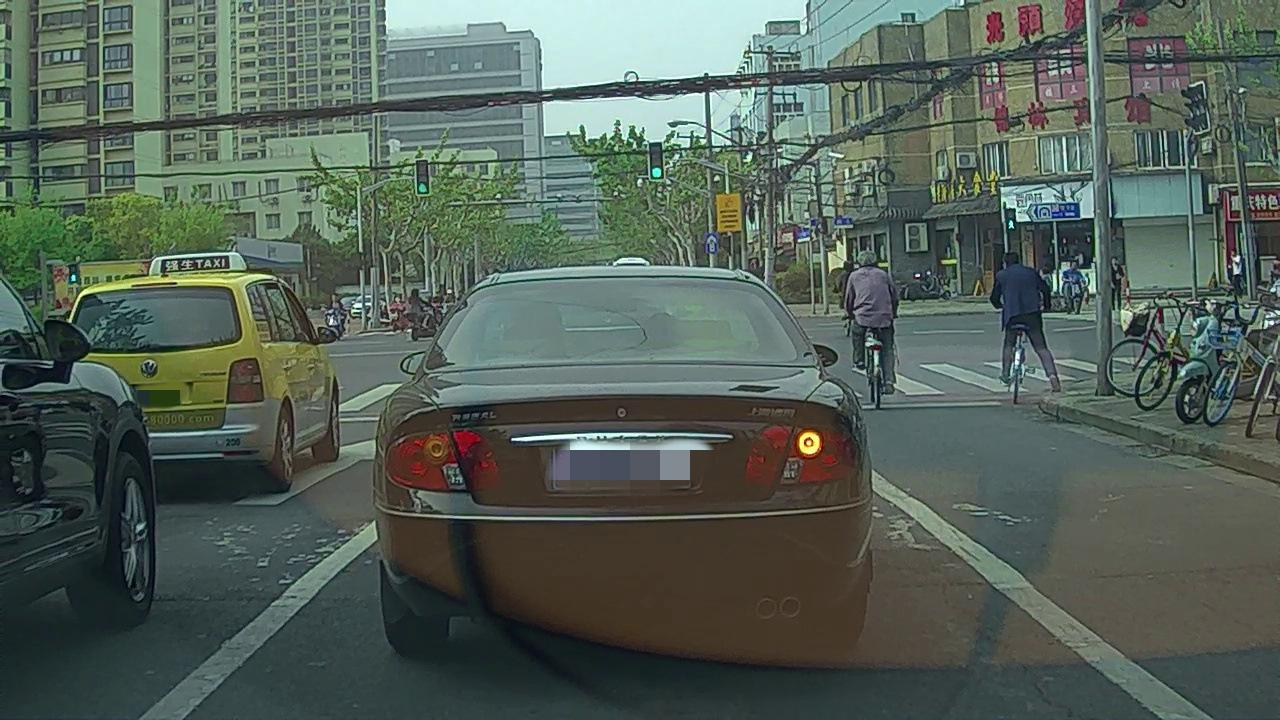traffic_light: (648, 142, 665, 181), (415, 158, 429, 195)
